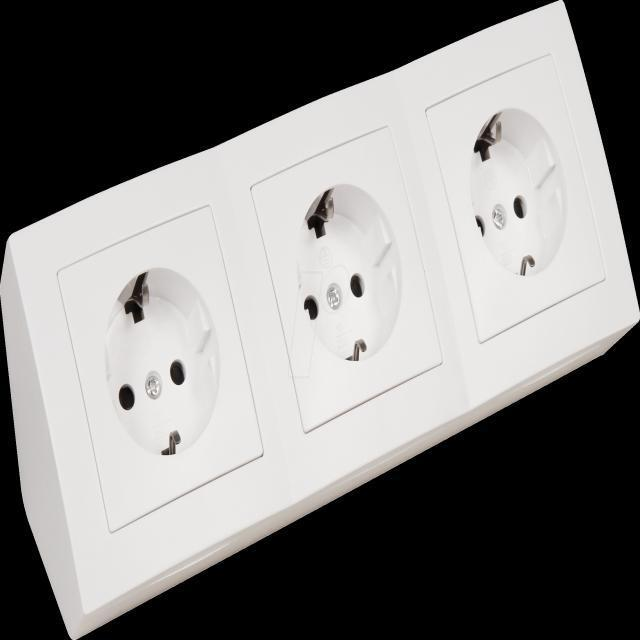typeb: (26, 34, 640, 557)
